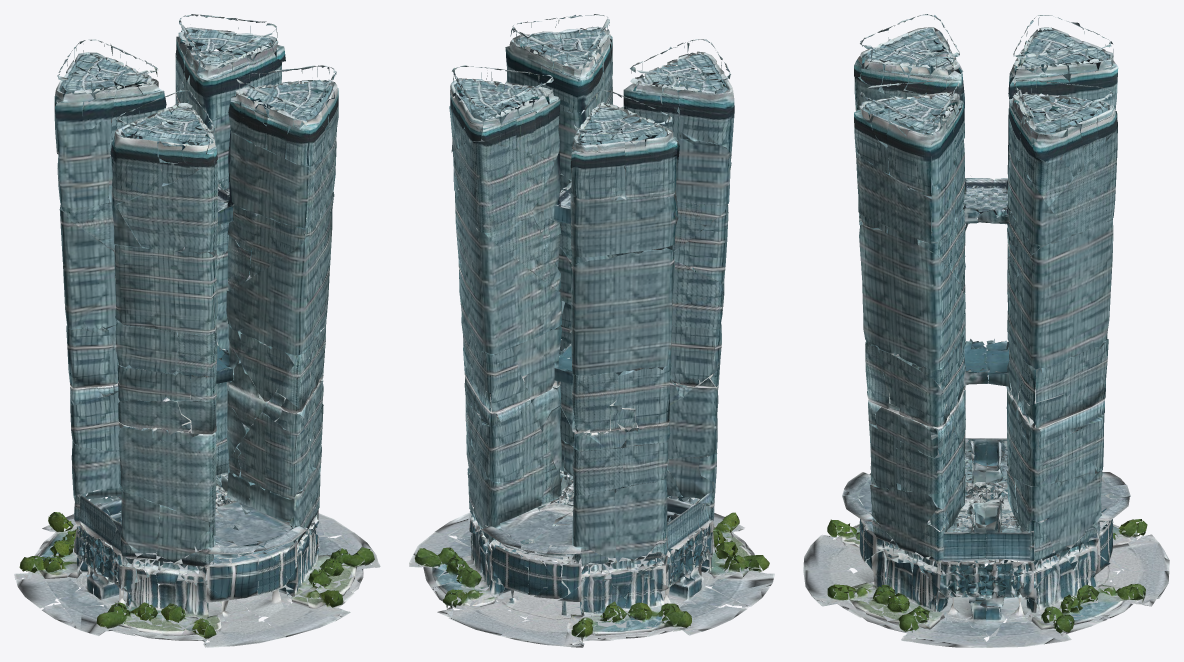
Rendered from tower_k.glb.
3 views of the same model, side by side, from view 1: azimuth 30°, elevation 25°; view 2: azimuth 150°, elevation 25°; view 3: azimuth 270°, elevation 25° (orthographic).
Visible parts, largest first — view 1: Mesh_0; view 2: Mesh_0; view 3: Mesh_0.
Boxes of the visible parts, bbox=[...] form: Mesh_0: bbox=[14, 14, 380, 647]; Mesh_0: bbox=[409, 14, 774, 647]; Mesh_0: bbox=[803, 14, 1169, 647].
Bounding box in the file's own units: 1.25 × 1.91 × 1.25.
1 material, 1 textured.
